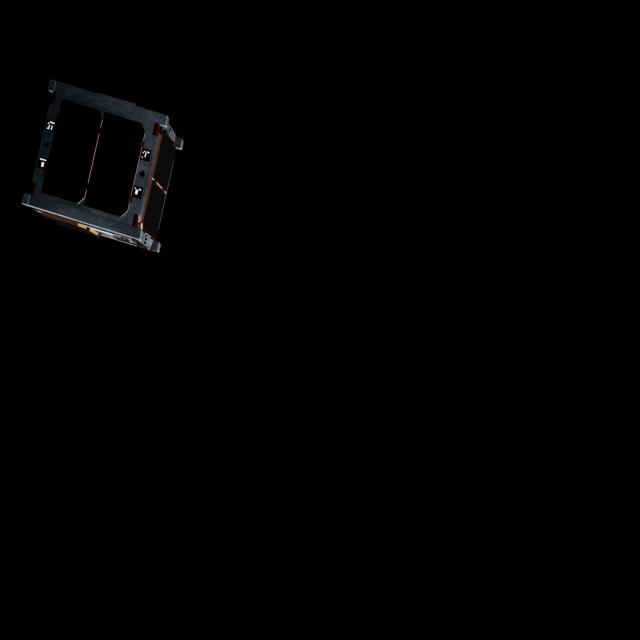satellite: (20, 76, 188, 262)
